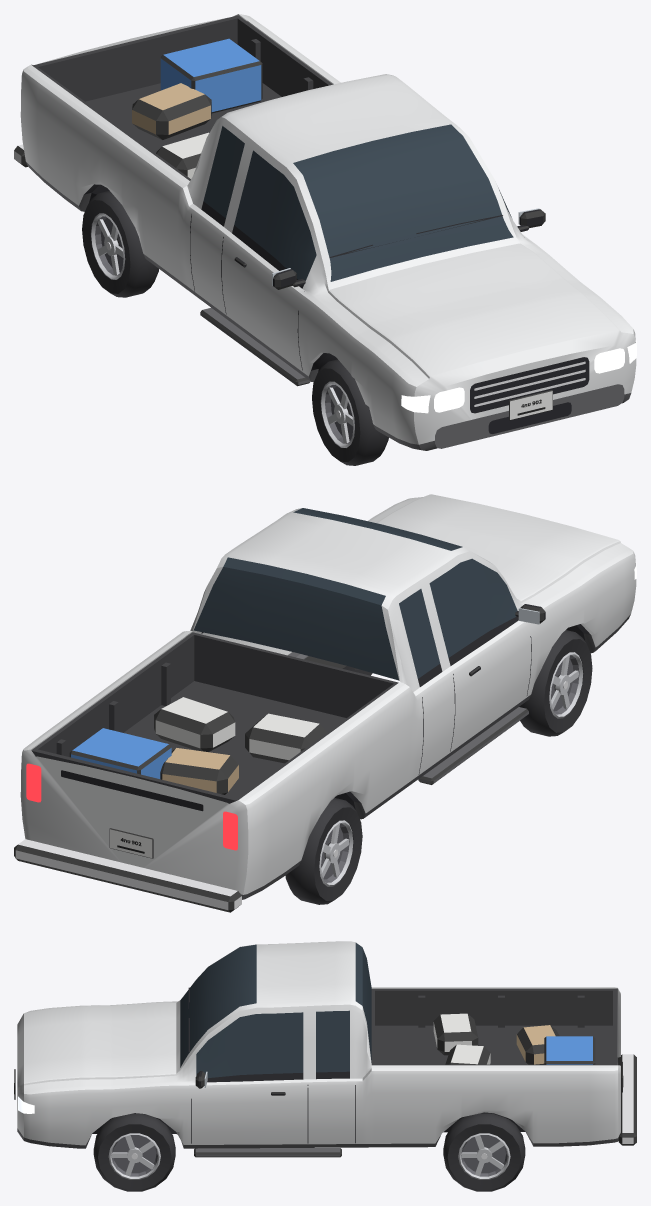
File: SM_Car_Pickup.fbx
The picture shows the model from 3 angles, top to bottom: view 1: azimuth 30°, elevation 25°; view 2: azimuth 150°, elevation 25°; view 3: azimuth 270°, elevation 25°; orthographic projection. The views are drawn at different scales.
Parts seen in each view (by area): view 1: Body.006, Wheel_RR.004, Wheel_FR.002; view 2: Body.006, Wheel_RR.004, Wheel_FR.002; view 3: Body.006, Wheel_RL.004, Wheel_FL.002.
Boxes of the visible parts, box(x1,y1,x2,y2) form: Body.006: box(14, 14, 636, 450); Wheel_RR.004: box(82, 190, 158, 297); Wheel_FR.002: box(312, 359, 388, 465); Body.006: box(14, 494, 636, 912); Wheel_RR.004: box(285, 798, 362, 904); Wheel_FR.002: box(519, 630, 592, 736); Body.006: box(14, 941, 636, 1157); Wheel_RL.004: box(443, 1113, 525, 1191); Wheel_FL.002: box(93, 1113, 175, 1191).
Size of what is drawn, in the model's own units: 2.09 by 1.76 by 5.47.
